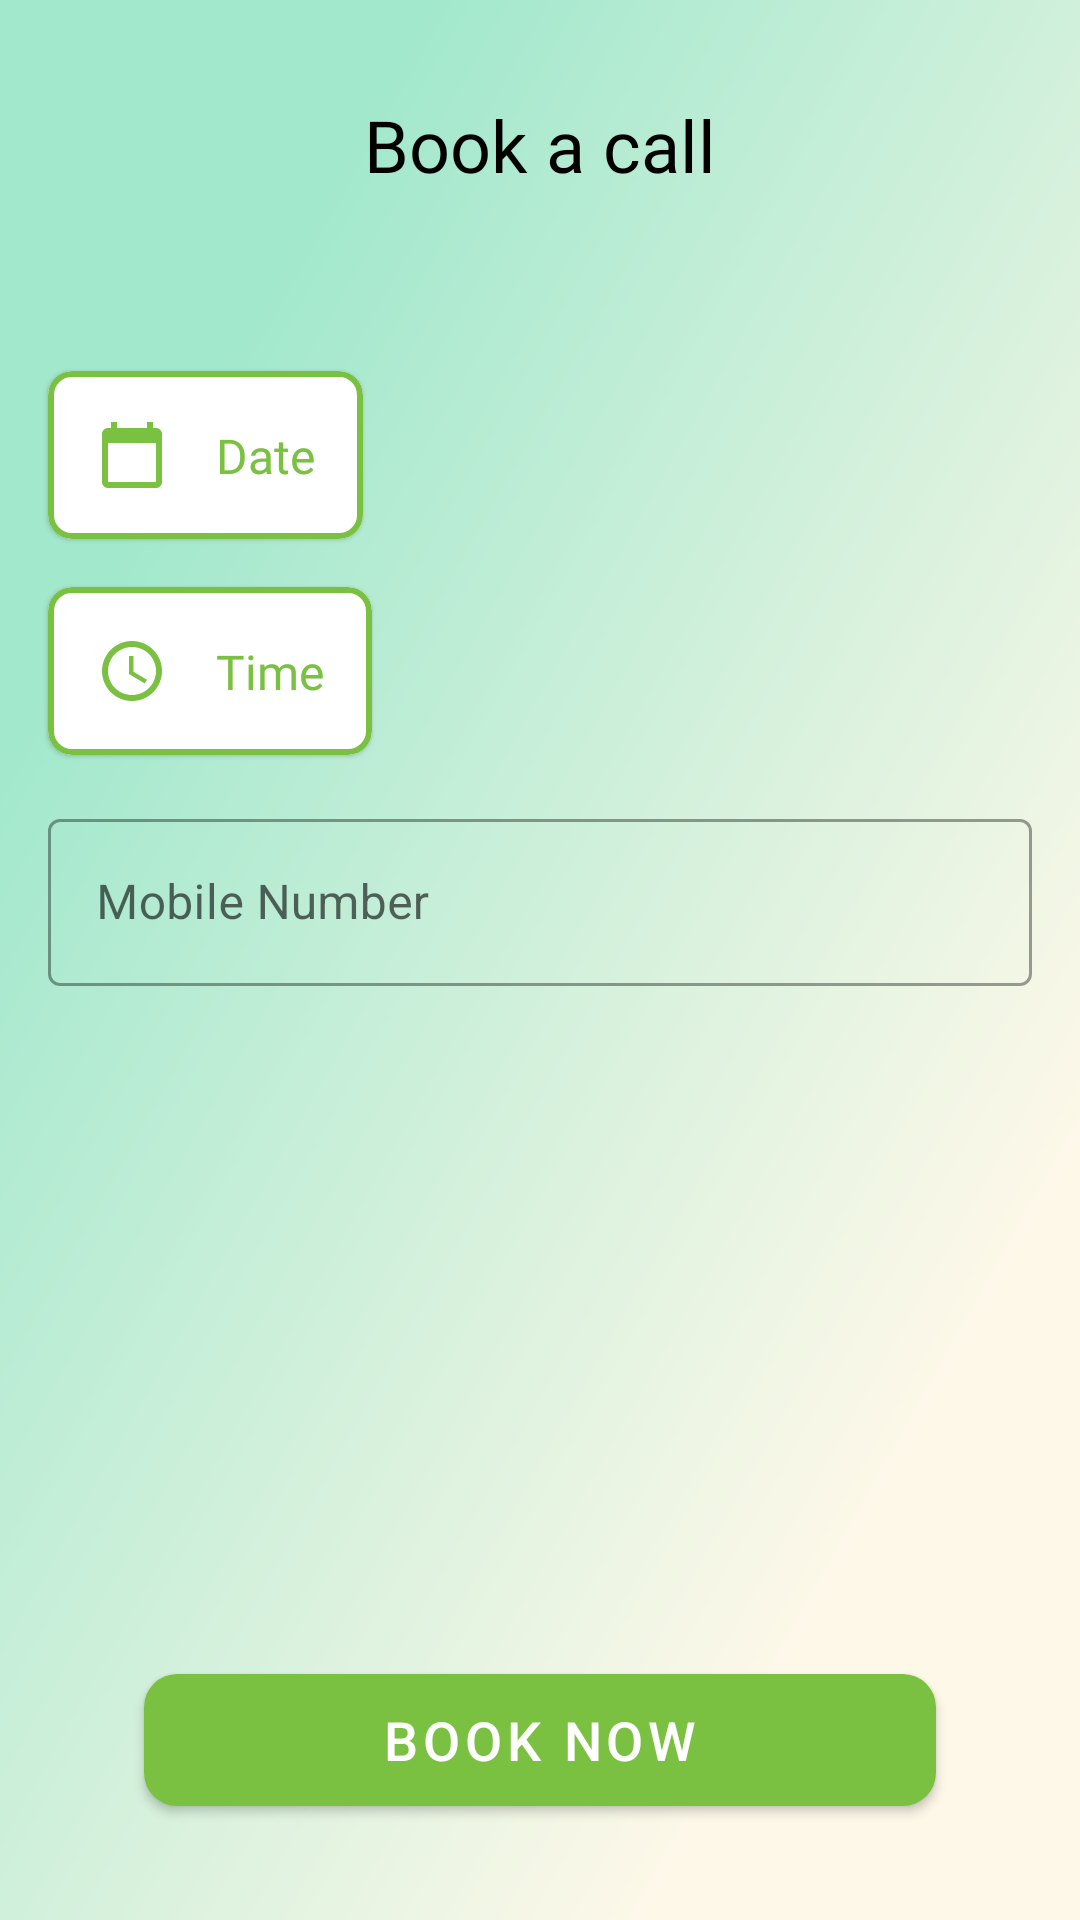

Named icons in this screenshot (1080 x 1920) and their bounding boxes, (x1, y1, x2, y2):
calendar today: (102, 422, 162, 488)
